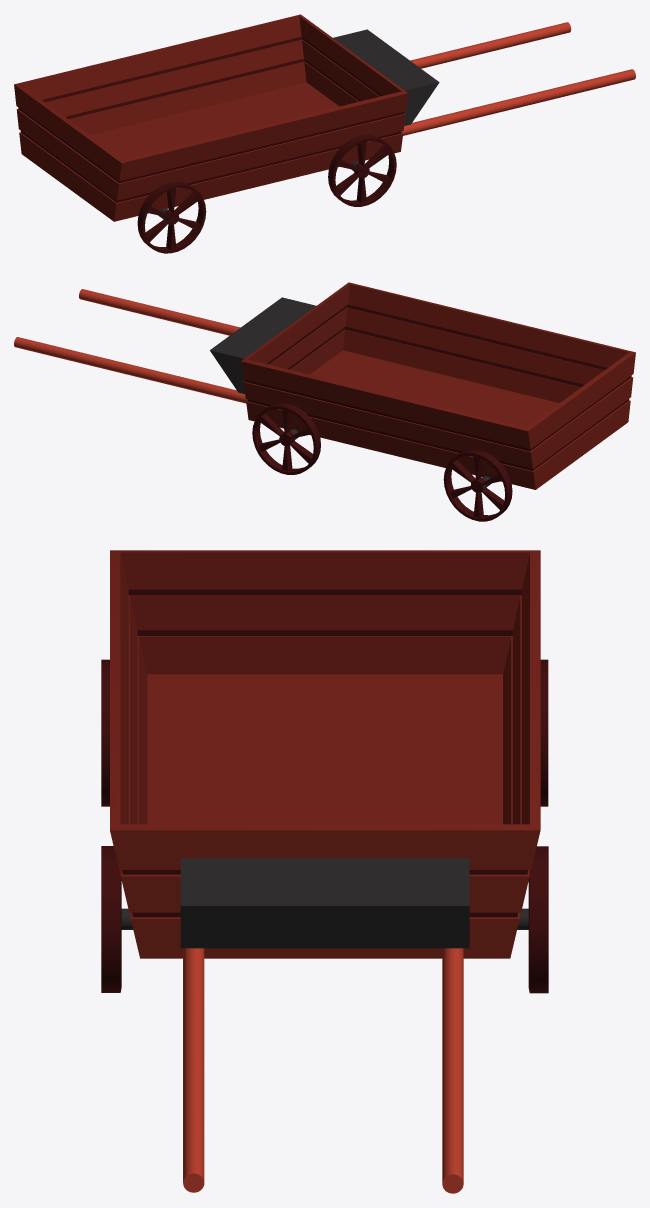
Rendered from Pferdewagen.FBX.
The picture shows the model from 3 angles, top to bottom: view 1: azimuth 30°, elevation 25°; view 2: azimuth 150°, elevation 25°; view 3: azimuth 270°, elevation 25°; orthographic projection. The views are drawn at different scales.
Parts seen in each view (by area): view 1: Quader002, Quader003, Zylinder008, Zylinder003, Zylinder002, Zylinder007; view 2: Quader002, Quader003, Zylinder007, Zylinder004, Zylinder001, Zylinder008; view 3: Quader002, Quader003, Zylinder007, Zylinder008, Zylinder004, Zylinder003, Zylinder002, Zylinder001.
Part boxes in pixels (x1,y1,x2,y2): Quader002: (14, 14, 408, 221); Quader003: (333, 29, 439, 125); Zylinder008: (401, 69, 635, 135); Zylinder003: (328, 135, 396, 206); Zylinder002: (137, 181, 206, 253); Zylinder007: (410, 22, 571, 68); Quader002: (241, 282, 635, 489); Quader003: (210, 297, 316, 393); Zylinder007: (14, 337, 247, 403); Zylinder004: (252, 403, 320, 474); Zylinder001: (443, 449, 512, 521); Zylinder008: (79, 289, 240, 335); Quader002: (110, 550, 540, 958); Quader003: (180, 858, 469, 948); Zylinder007: (442, 948, 463, 1193); Zylinder008: (183, 948, 204, 1192); Zylinder004: (528, 846, 548, 993); Zylinder003: (101, 846, 121, 992); Zylinder002: (101, 659, 109, 806); Zylinder001: (540, 659, 548, 806).
Size of the model in its own units: 174 by 31.51 by 63.21.
